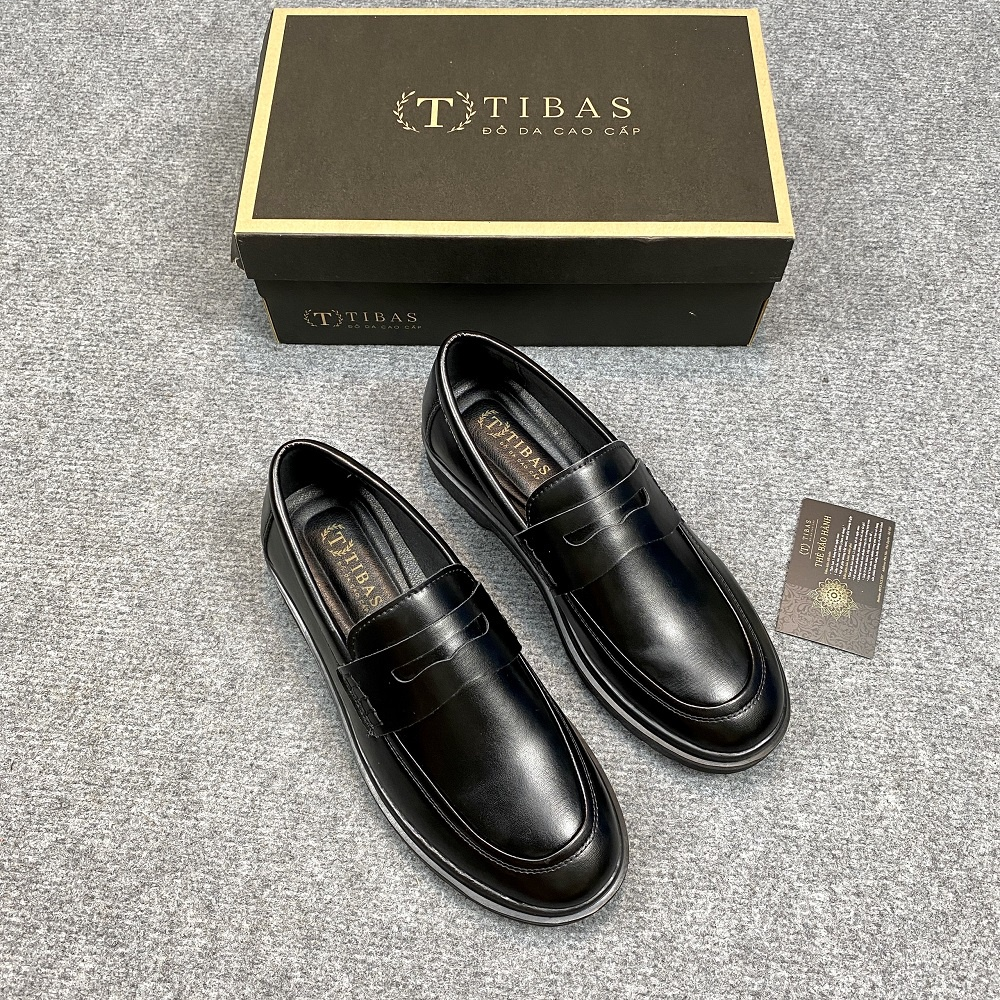sneakers: (258, 442, 632, 929), (417, 332, 794, 778)
